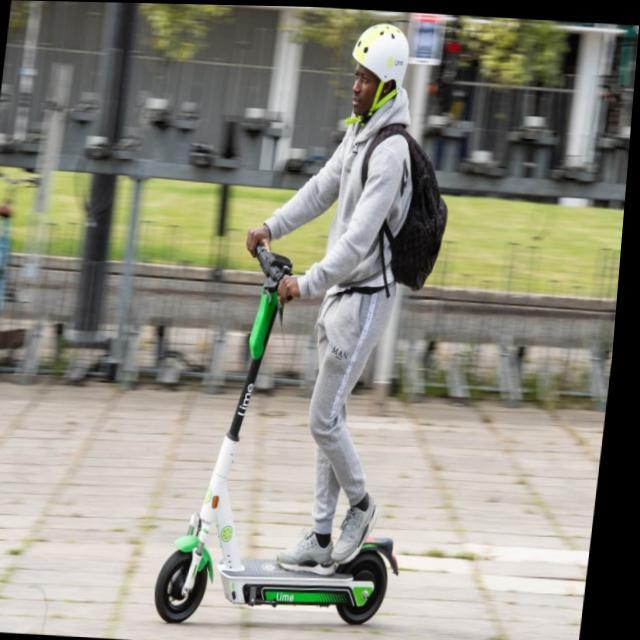Helmet: (346, 16, 406, 134)
